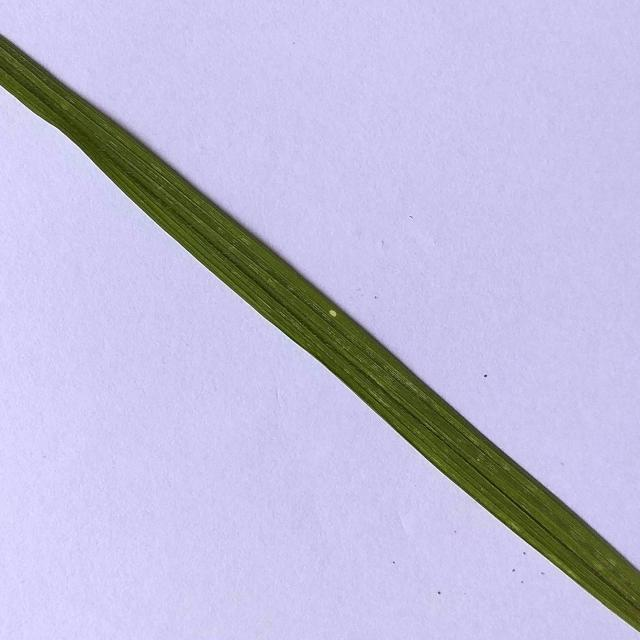Blast: (326, 305, 341, 322)
